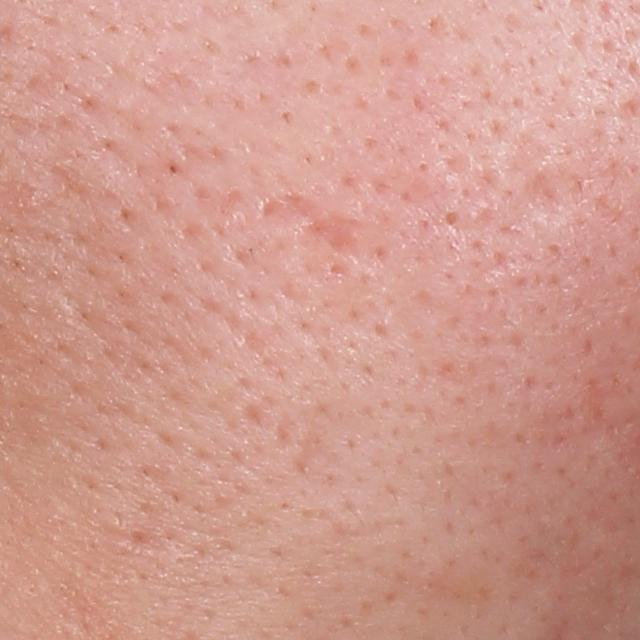atrophic_scar: (500, 134, 584, 236), (255, 188, 367, 259)
comedo: (442, 206, 462, 230)
